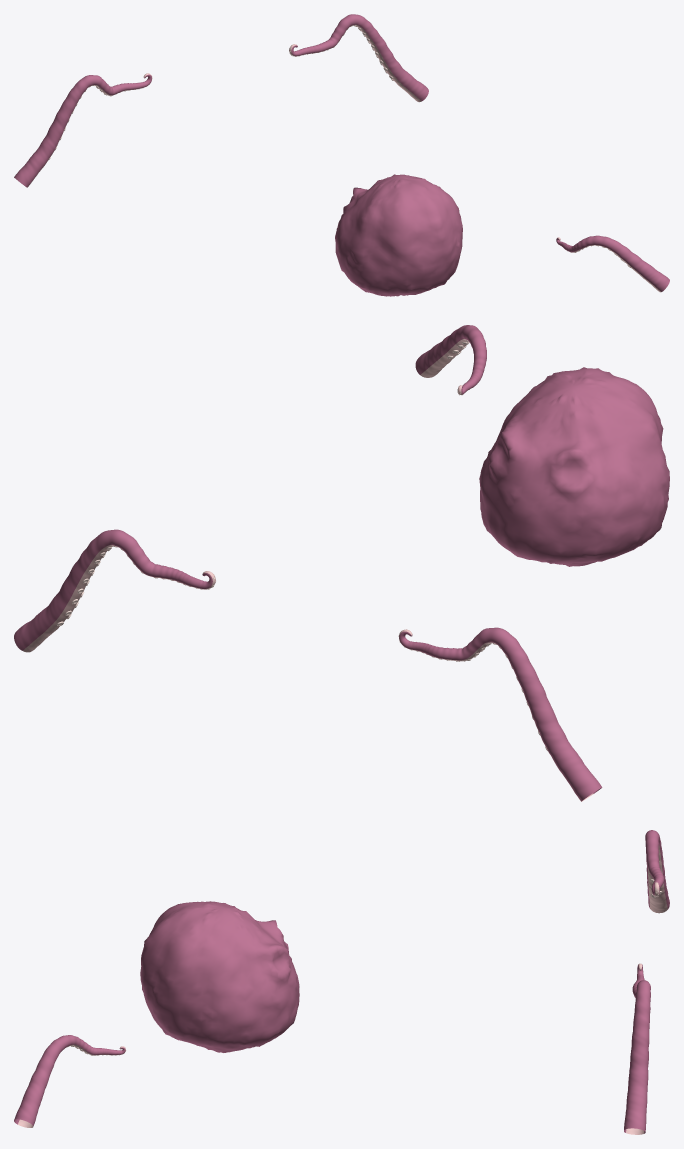
File: CursedBarrelModels.fbx
3 views of the same model, one above another, from view 1: azimuth 30°, elevation 25°; view 2: azimuth 150°, elevation 25°; view 3: azimuth 270°, elevation 25° (orthographic). The views are drawn at different scales.
Visible parts, largest first — view 1: CB_Kraken_Mantle, CB_KrakenRest_Port_Quarter_Skin, CB_KrakenRest_Starboard_Quarter_Skin, CB_KrakenRest_Starboard_Deck_Skin, CB_KrakenRest_Starboard_Quarter_Belly; view 2: CB_Kraken_Mantle, CB_KrakenRest_Port_Quarter_Skin, CB_KrakenRest_Starboard_Quarter_Skin, CB_KrakenRest_Starboard_Deck_Skin, CB_KrakenRest_Starboard_Quarter_Belly; view 3: CB_Kraken_Mantle, CB_KrakenRest_Starboard_Quarter_Skin, CB_KrakenRest_Starboard_Deck_Skin, CB_KrakenRest_Port_Quarter_Skin, CB_KrakenRest_Port_Quarter_Belly.
Boxes of the visible parts, bbox=[...] form: CB_Kraken_Mantle: bbox=[335, 174, 462, 296]; CB_KrakenRest_Port_Quarter_Skin: bbox=[14, 74, 151, 187]; CB_KrakenRest_Starboard_Quarter_Skin: bbox=[291, 14, 428, 100]; CB_KrakenRest_Starboard_Deck_Skin: bbox=[556, 235, 669, 291]; CB_KrakenRest_Starboard_Quarter_Belly: bbox=[289, 24, 421, 102]; CB_Kraken_Mantle: bbox=[479, 367, 669, 566]; CB_KrakenRest_Port_Quarter_Skin: bbox=[399, 627, 602, 801]; CB_KrakenRest_Starboard_Quarter_Skin: bbox=[14, 529, 212, 650]; CB_KrakenRest_Starboard_Deck_Skin: bbox=[415, 325, 486, 394]; CB_KrakenRest_Starboard_Quarter_Belly: bbox=[23, 545, 215, 652]; CB_Kraken_Mantle: bbox=[140, 901, 299, 1052]; CB_KrakenRest_Starboard_Quarter_Skin: bbox=[624, 964, 650, 1133]; CB_KrakenRest_Starboard_Deck_Skin: bbox=[14, 1035, 125, 1126]; CB_KrakenRest_Port_Quarter_Skin: bbox=[645, 830, 669, 909]; CB_KrakenRest_Port_Quarter_Belly: bbox=[648, 845, 667, 913].
Bounding box in the file's own units: 17703 × 4950 × 20991.
